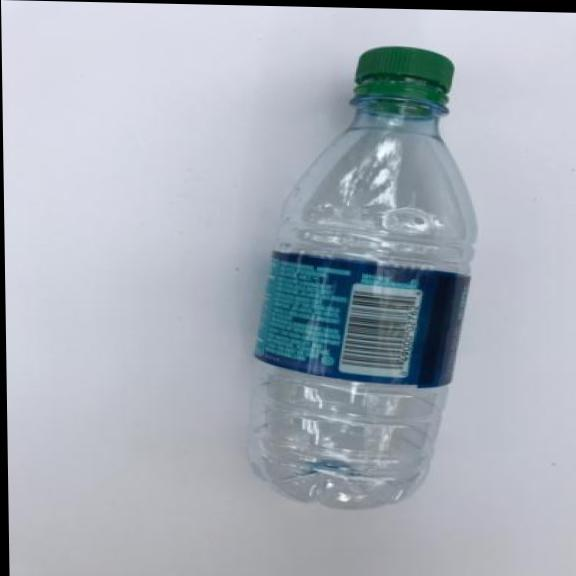Plastik: (222, 31, 487, 519)
